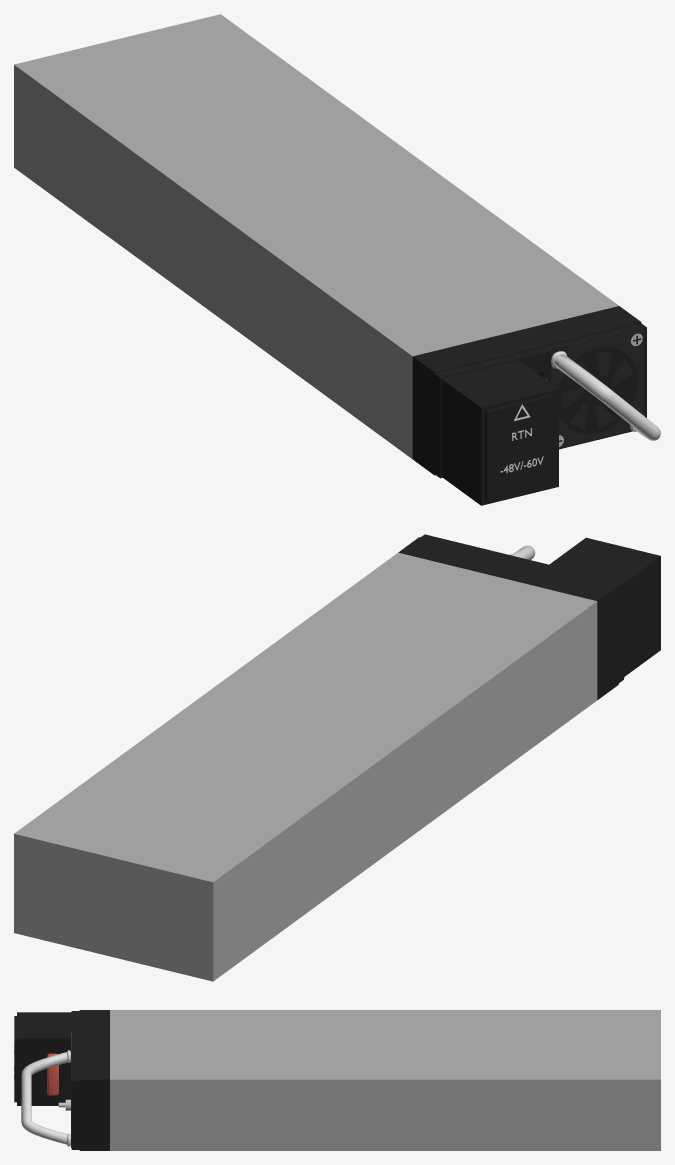
Rendered from PWR-C4-950WDC-R.far.glb.
3 views of the same model, one above another, from view 1: azimuth 30°, elevation 25°; view 2: azimuth 150°, elevation 25°; view 3: azimuth 270°, elevation 25° (orthographic). The views are drawn at different scales.
Parts seen in each view (by area): view 1: Body_far; view 2: Body_far; view 3: Body_far.
Boxes of the visible parts, bbox=[...] form: Body_far: bbox=[14, 14, 660, 505]; Body_far: bbox=[14, 534, 660, 981]; Body_far: bbox=[14, 1010, 660, 1150].
Bounding box in the file's own units: 0.084 × 0.04 × 0.3294.
2 materials, 1 textured.
